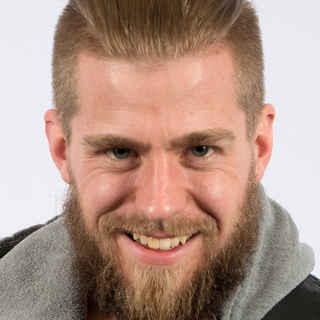eye: (95, 140, 144, 165), (178, 139, 225, 164)
